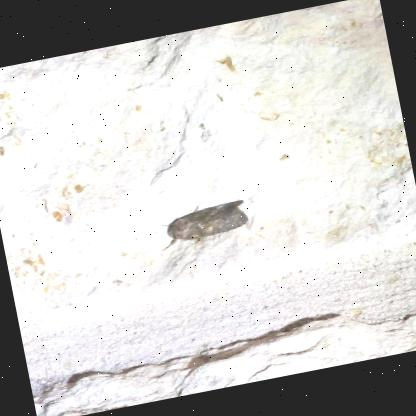Fall Armyworm Moth: (151, 190, 253, 251)
